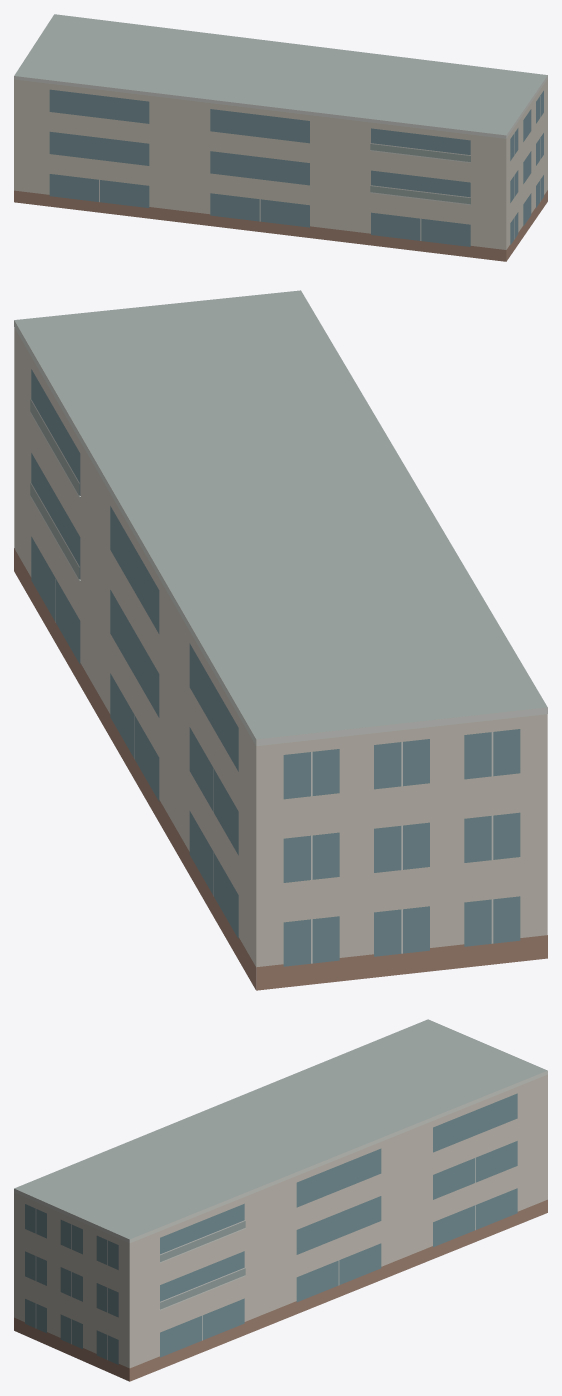
Rendered from survey-upis-32761572.glb.
The picture shows the model from 3 angles, top to bottom: view 1: azimuth 30°, elevation 25°; view 2: azimuth 150°, elevation 25°; view 3: azimuth 270°, elevation 25°; orthographic projection. The views are drawn at different scales.
Parts seen in each view (by area): view 1: survey-upis-32761572.tmp; view 2: survey-upis-32761572.tmp; view 3: survey-upis-32761572.tmp.
Part boxes in pixels (x1,y1,x2,y2): survey-upis-32761572.tmp: [14, 14, 547, 261]; survey-upis-32761572.tmp: [14, 290, 547, 990]; survey-upis-32761572.tmp: [14, 1019, 547, 1381].
Size of the model in its own units: 30.41 by 9.15 by 31.15.
